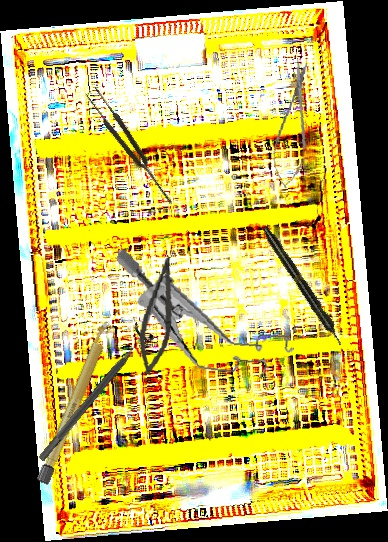Fixation Ring: (30, 321, 157, 468)
Handpiece: (260, 224, 346, 349)
Micro Scissor: (268, 57, 319, 191), (135, 254, 180, 376)
Scalpel Handle: (36, 318, 115, 486)
Speculum: (102, 246, 306, 386)
Tissue Forceps: (83, 84, 178, 210)
